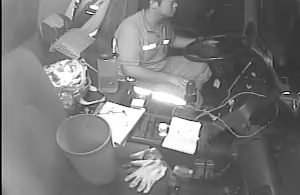paper: (160, 115, 202, 155)
